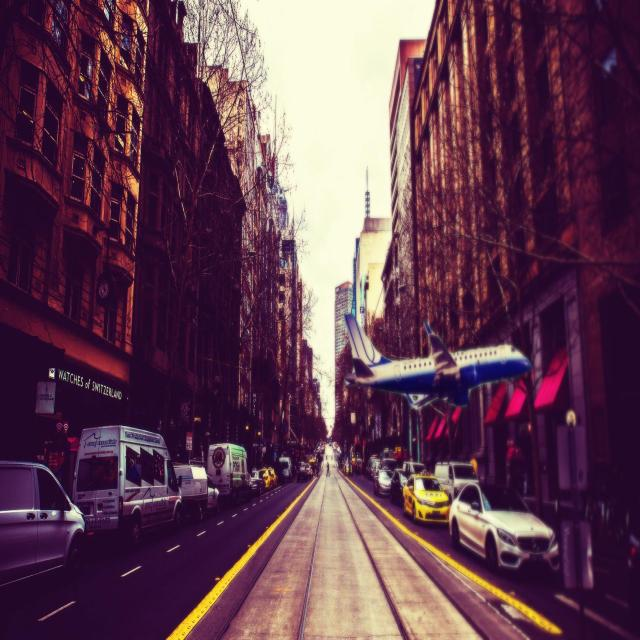airplane: (342, 312, 532, 411)
